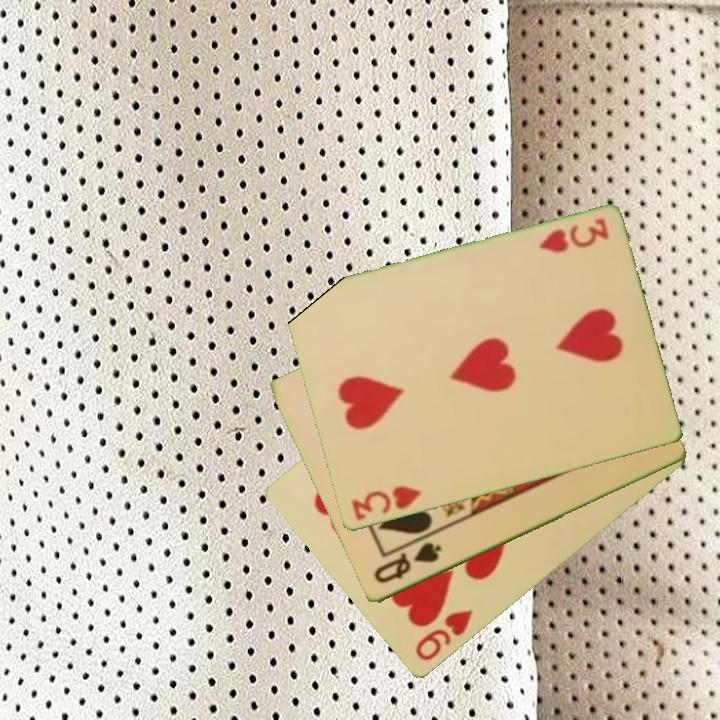3h: (535, 215, 612, 257), (348, 483, 424, 524)
9h: (411, 607, 476, 665)
Qs: (370, 539, 445, 587)
